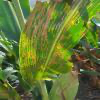Corn leaf blight: (21, 3, 90, 88)
